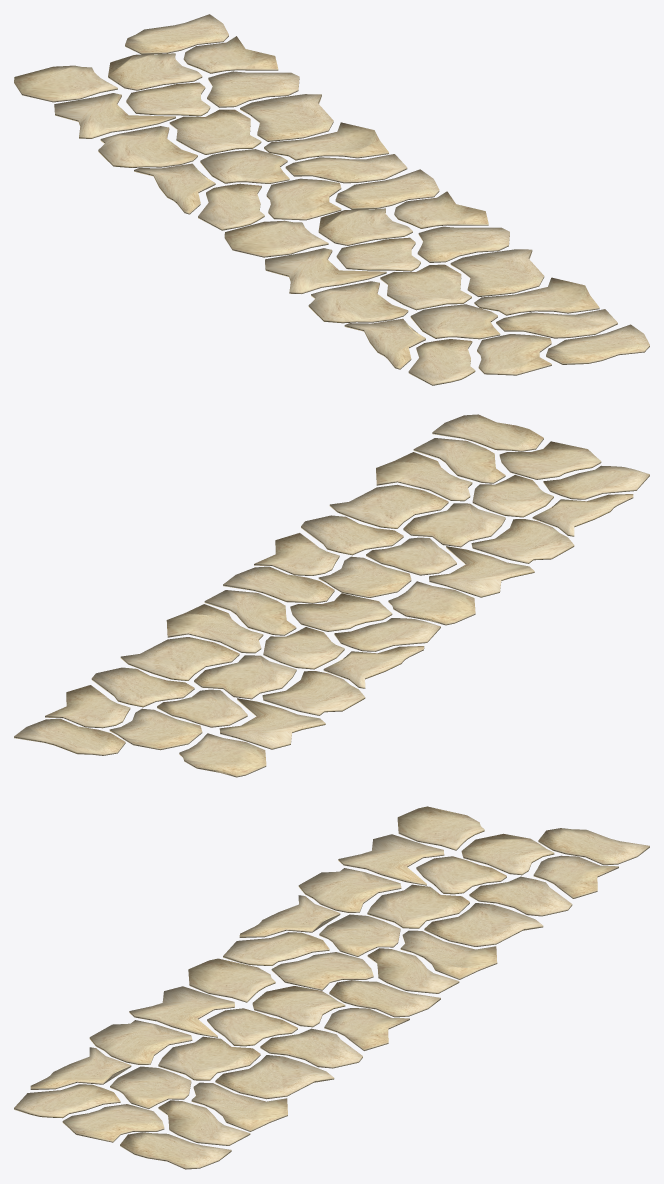
Rendered from SueloPiedraZona3_V3.fbx.
The picture shows the model from 3 angles, top to bottom: view 1: azimuth 30°, elevation 25°; view 2: azimuth 150°, elevation 25°; view 3: azimuth 330°, elevation 25°; orthographic projection.
Parts seen in each view (by area): view 1: Cube_025; view 2: Cube_025; view 3: Cube_025.
Boxes of the visible parts, x1,y1,x2,y2 form: Cube_025: (14,14,649,385); Cube_025: (14,414,649,777); Cube_025: (14,806,649,1169).
Bounding box in the file's own units: 2340 × 17.79 × 7863.
